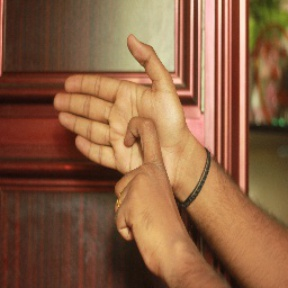R: (52, 33, 197, 220)
